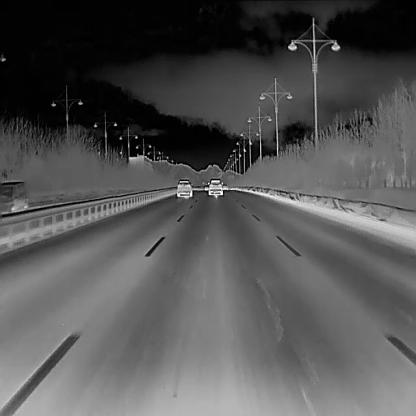car: (0, 177, 25, 213), (176, 178, 191, 197), (206, 176, 221, 195), (221, 182, 227, 188), (204, 184, 208, 188)
